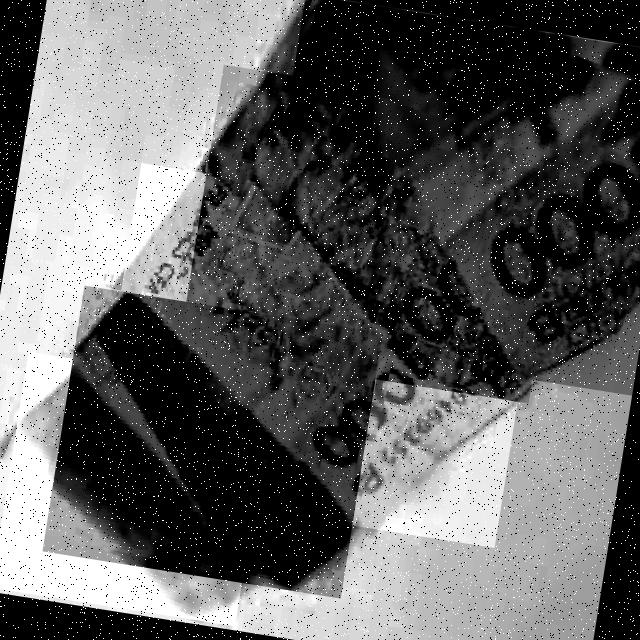niaar teemeer: (122, 173, 517, 526), (73, 293, 351, 589)
nient teemeer: (298, 0, 640, 378), (210, 73, 533, 398)
teemeer: (17, 362, 239, 617)
